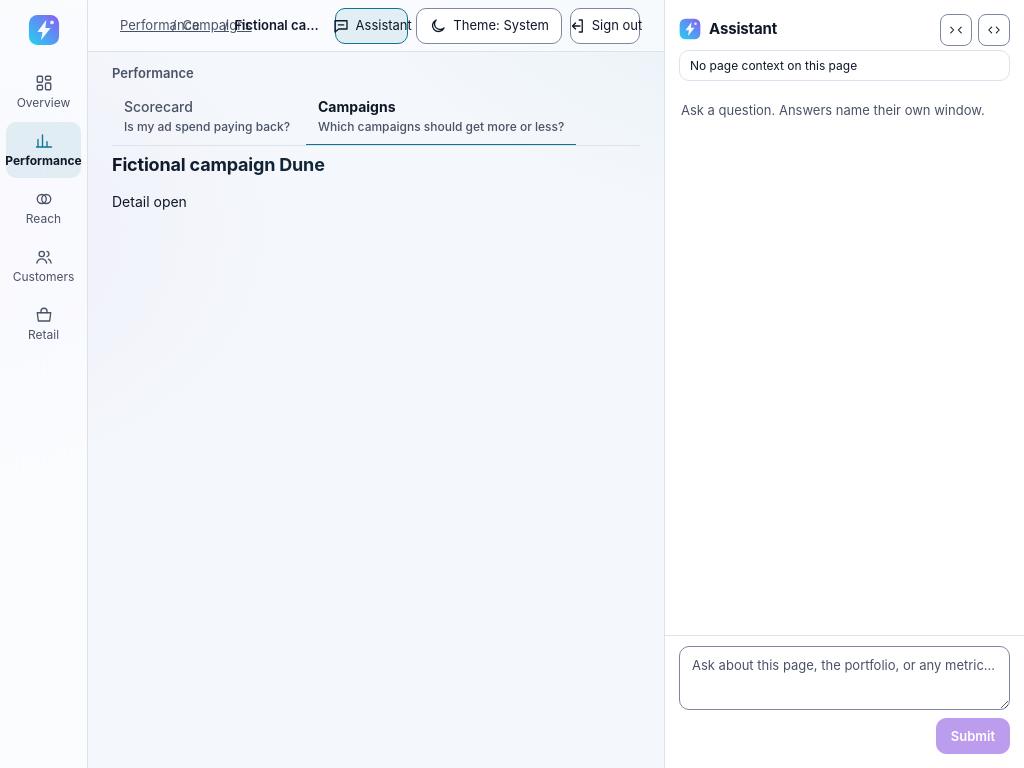
an entity open in place becomes the h1 and the crumb tab link closes it
The image size is (1024, 768).
Check: the heading "Fictional campaign Dune" is shown, box [112,152,640,178]
Click the link "Campaigns" at (217,26), box [182,16,252,35]
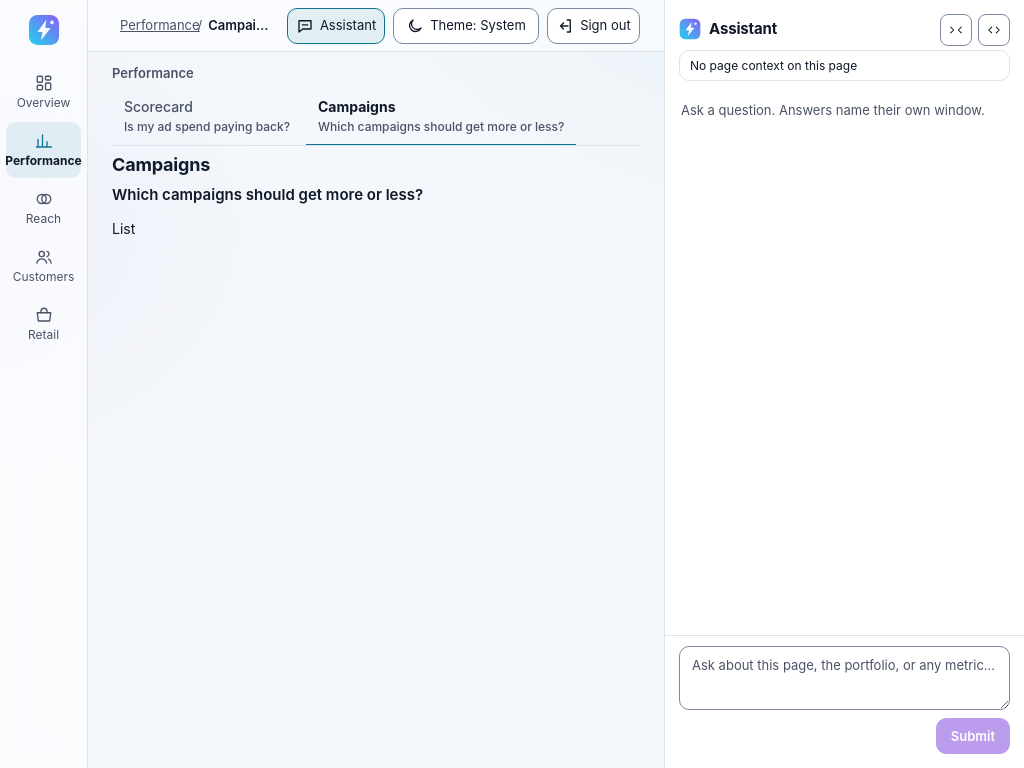
Check: the text "List" is shown, box [112,220,135,237]
Check: the heading "Campaigns" is shown, box [112,152,640,178]
